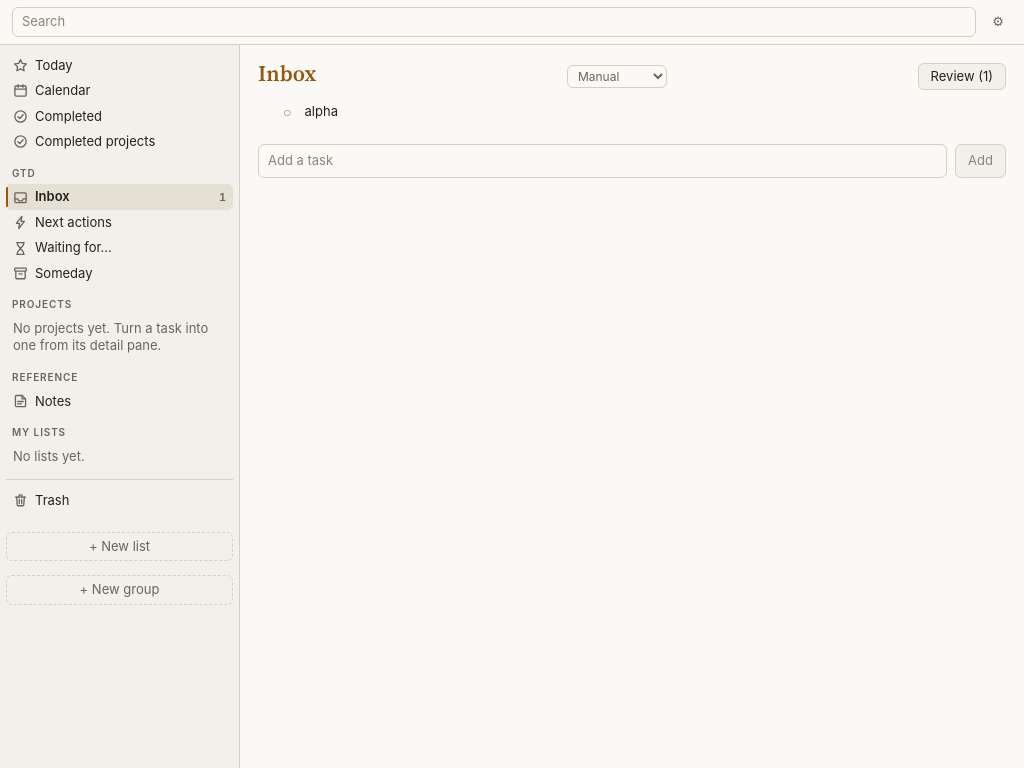
The Review sheet › showsInboxZeroWhenTheQueueEmpties
Click the button "Review (1)".
click(962, 76)  # box [918,62,1006,90]
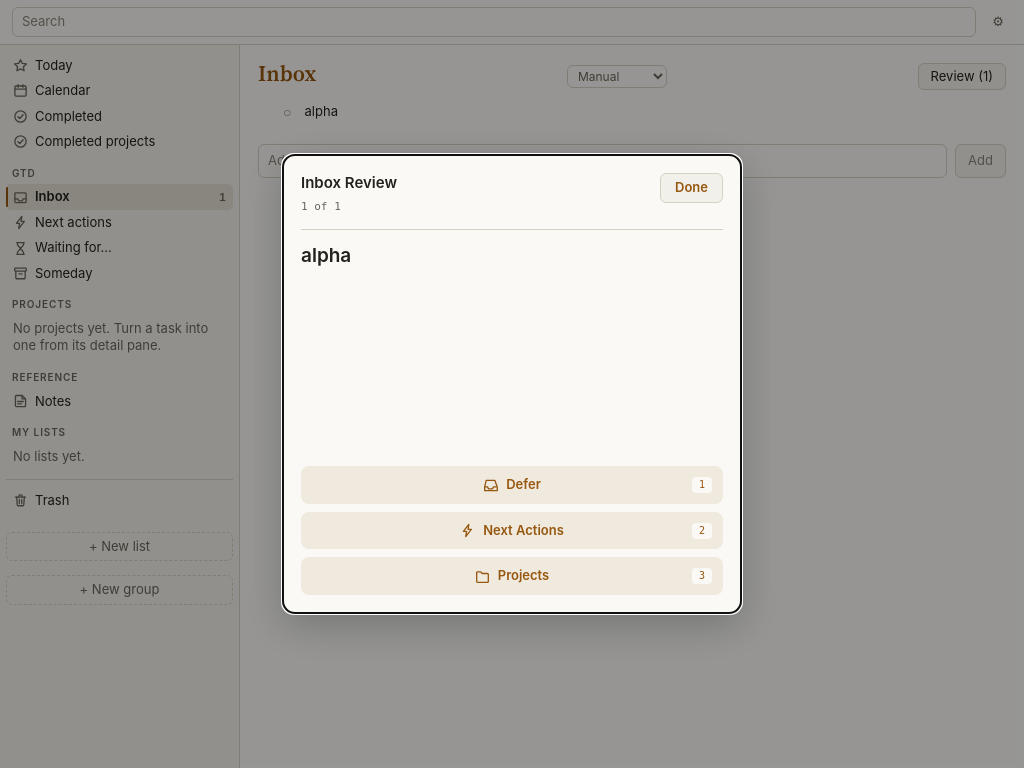
Type keys "1"
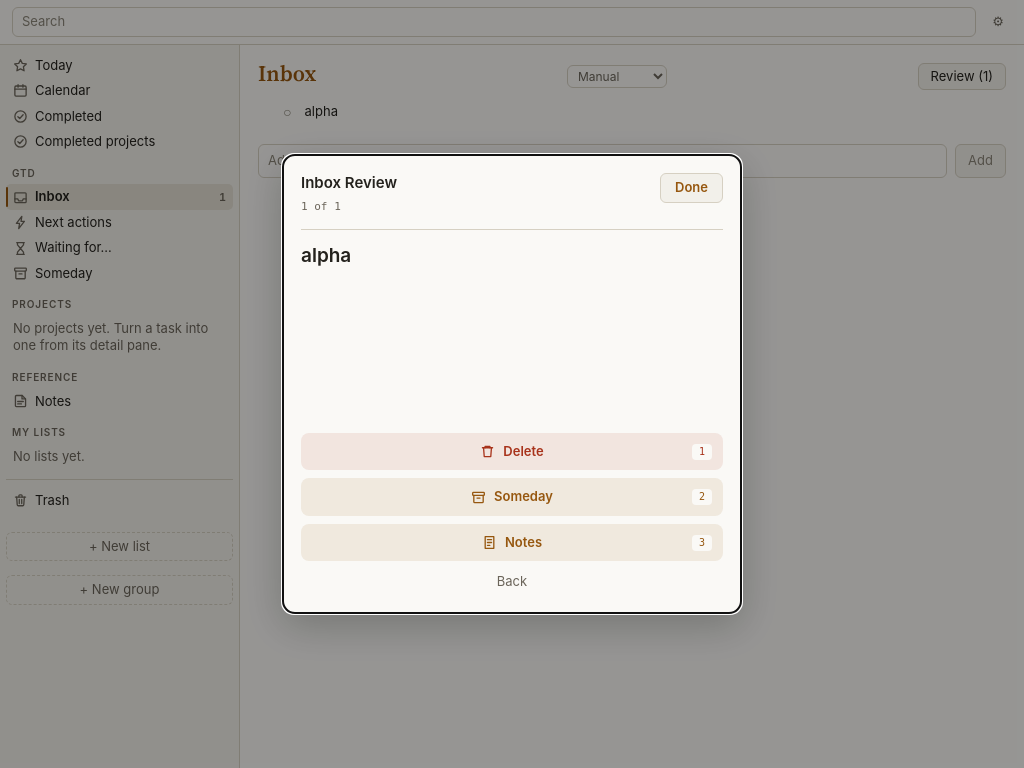
Type keys "2"
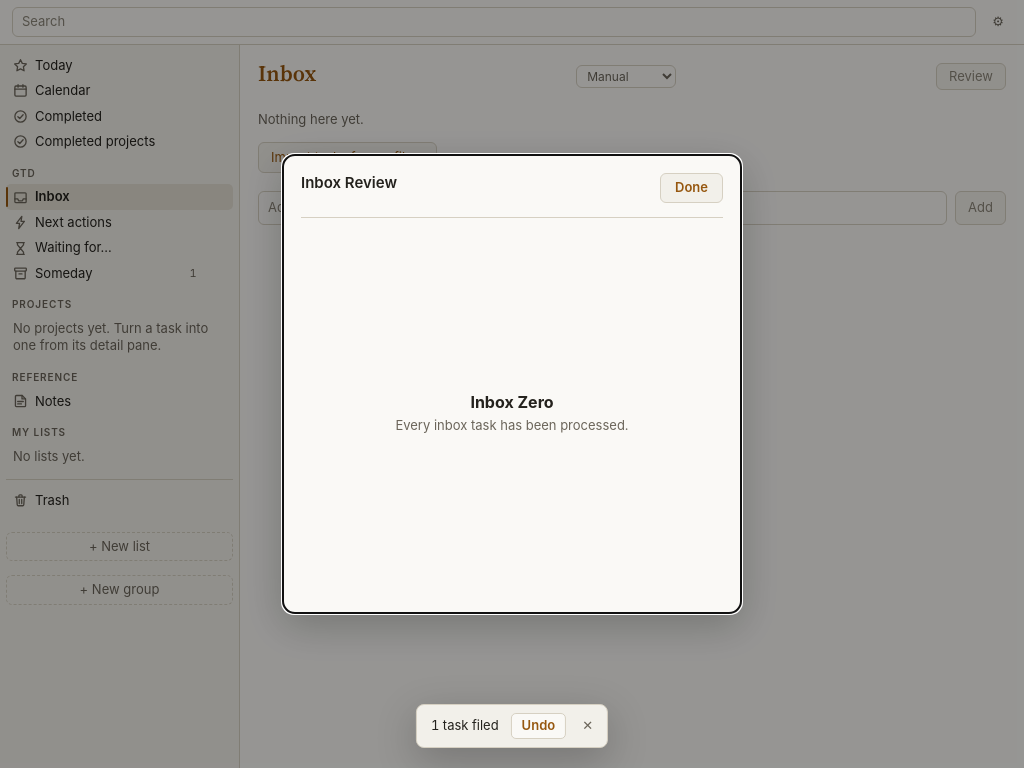
Check: the heading "Inbox Zero" is shown, box [470,392,554,412]
Check: the text "Every inbox task has been processed." is shown, box [395,417,629,435]
